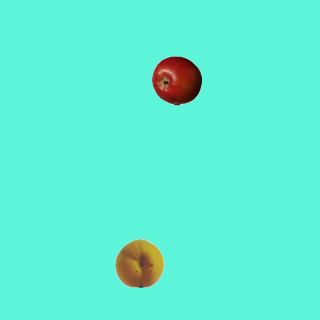Apple Braeburn: (151, 55, 201, 105)
Peach 2: (114, 237, 164, 287)
